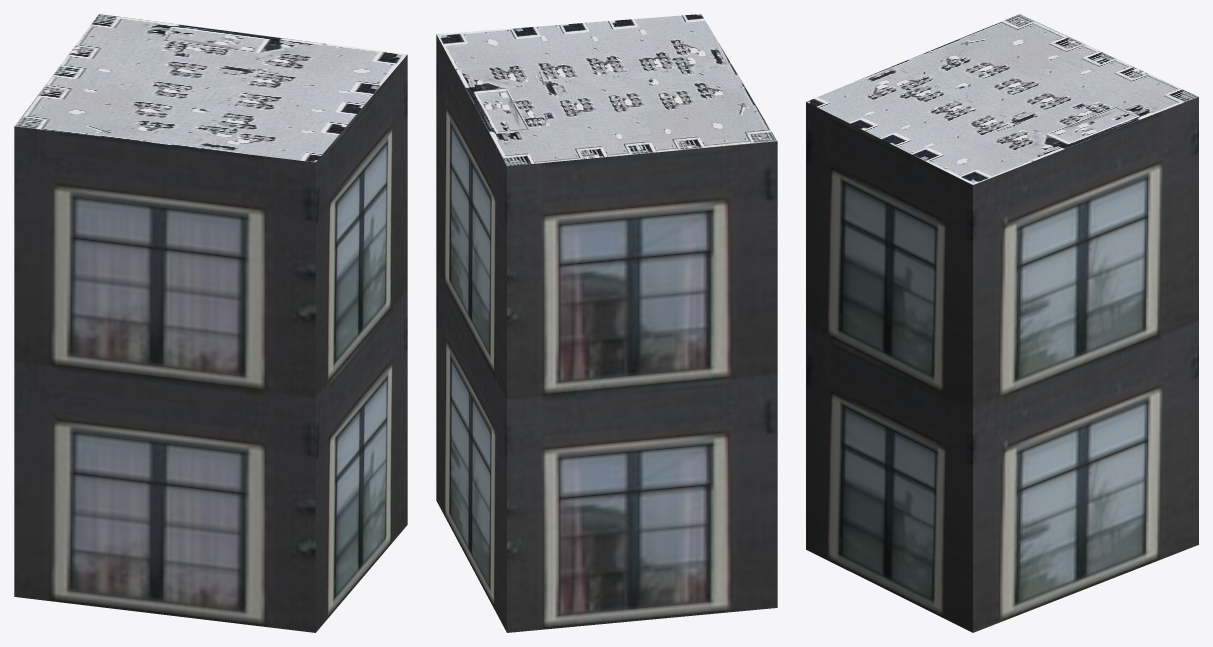
The model's file is ResTex__4790.fbx.
3 views of the same model, side by side, from view 1: azimuth 30°, elevation 25°; view 2: azimuth 150°, elevation 25°; view 3: azimuth 270°, elevation 25° (orthographic). The views are drawn at different scales.
Parts seen in each view (by area): view 1: CityEngineMaterial_22_m, CityEngineMaterial_4_m; view 2: CityEngineMaterial_22_m, CityEngineMaterial_4_m; view 3: CityEngineMaterial_22_m, CityEngineMaterial_4_m.
Boxes of the visible parts, x1,y1,x2,y2 form: CityEngineMaterial_22_m: (14, 55, 407, 632); CityEngineMaterial_4_m: (15, 14, 406, 162); CityEngineMaterial_22_m: (436, 34, 777, 632); CityEngineMaterial_4_m: (436, 14, 776, 166); CityEngineMaterial_22_m: (806, 97, 1198, 632); CityEngineMaterial_4_m: (806, 14, 1198, 184).
Size of the model in its own units: 4.92 by 6 by 4.77.
Materials: 2 (2 with a texture image).
